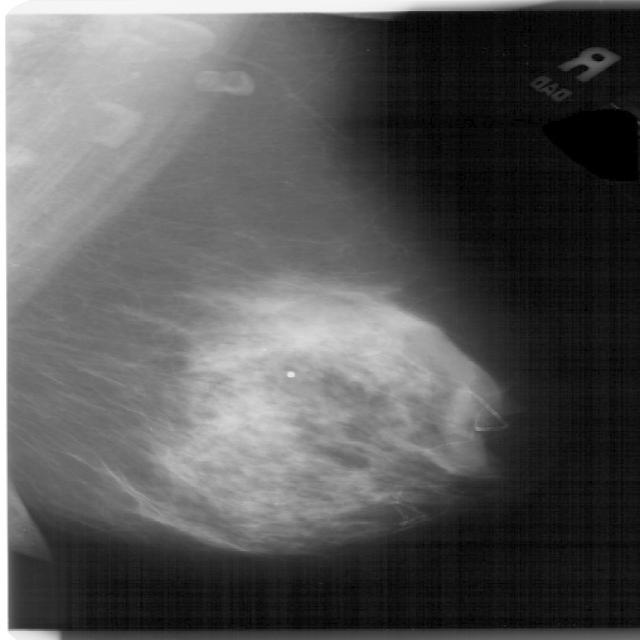tumour: (197, 402, 264, 442)
